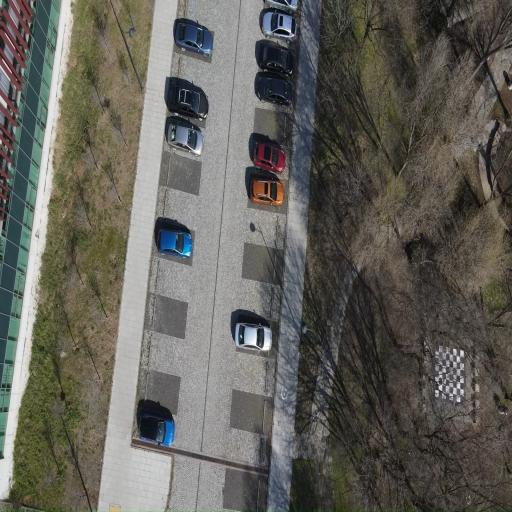car: (166, 85, 207, 120), (174, 21, 212, 56), (166, 120, 202, 155), (138, 412, 173, 446), (261, 12, 295, 44), (257, 44, 292, 74), (256, 74, 291, 104), (234, 323, 270, 351), (157, 229, 192, 257), (253, 142, 284, 173), (249, 178, 283, 206), (264, 0, 297, 12)
